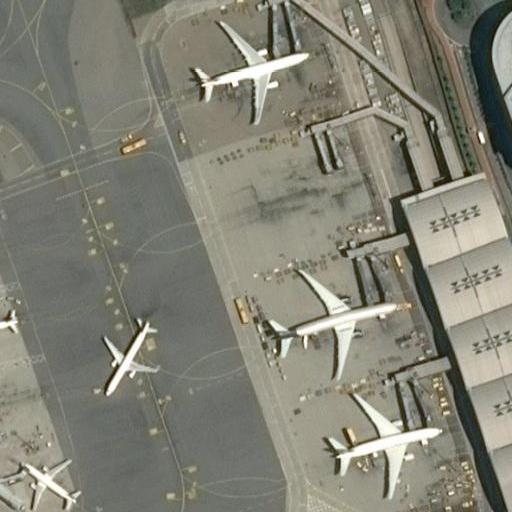Aircraft: (253, 251, 405, 378), (178, 5, 315, 127), (260, 264, 402, 375), (315, 382, 444, 501), (185, 16, 312, 125), (320, 389, 444, 498), (85, 309, 160, 400), (92, 308, 163, 398), (4, 446, 87, 512), (100, 313, 157, 395), (13, 449, 82, 512), (0, 288, 24, 356), (0, 295, 23, 356), (0, 208, 7, 287)
